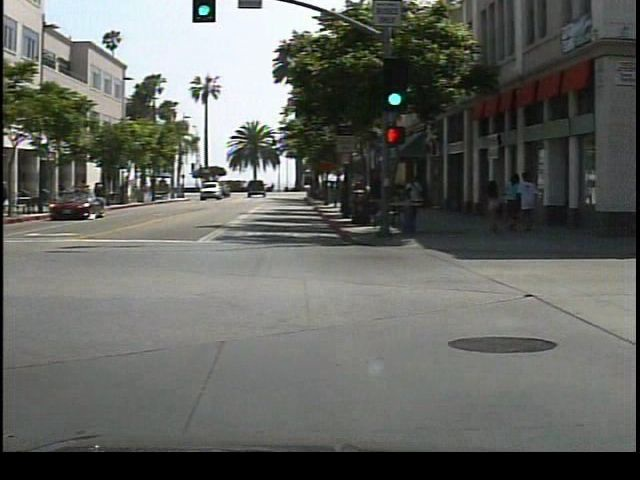person: (410, 171, 437, 226), (5, 177, 19, 214)
